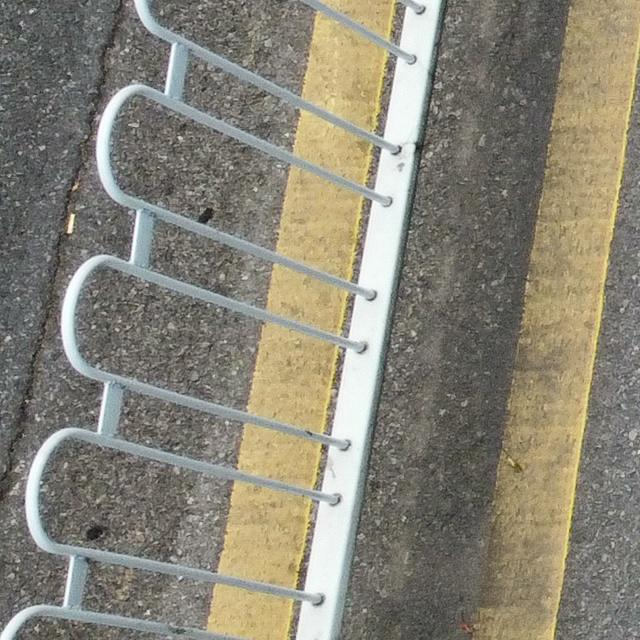LongitudinalCrack: (1, 1, 127, 492)
